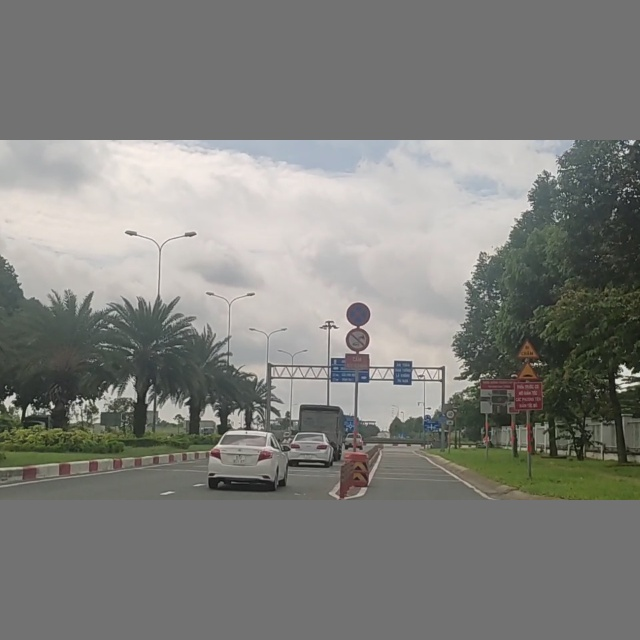P.111: (345, 328, 369, 353)
P.130: (344, 300, 371, 327)
W.221b: (517, 360, 539, 381)
W.245a: (515, 339, 541, 358)
